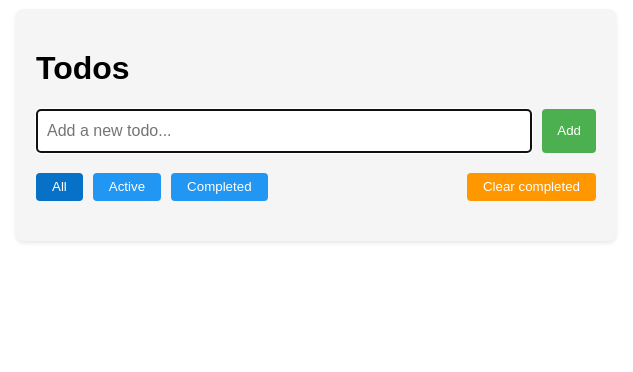
Test case: Todos App › should clear completed todos
Type "Active task" into the field with placeholder "Add a new todo..." at x=284, y=131, box [36,109,532,153]
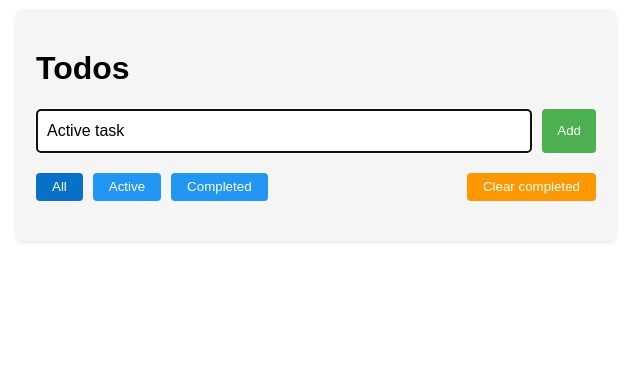
Click the button "Add" at x=569, y=131, box [542,109,596,153]
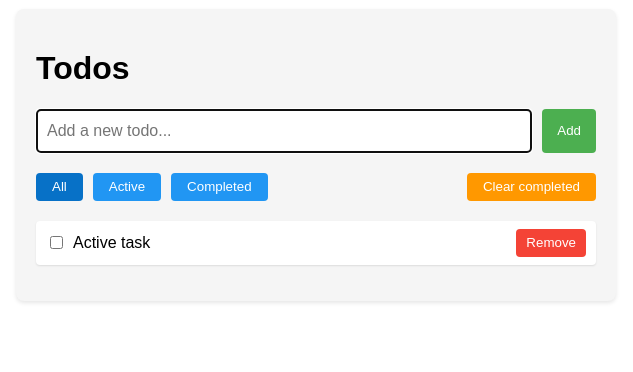
Type "Completed task" into the field with placeholder "Add a new todo..." at x=284, y=131, box [36,109,532,153]
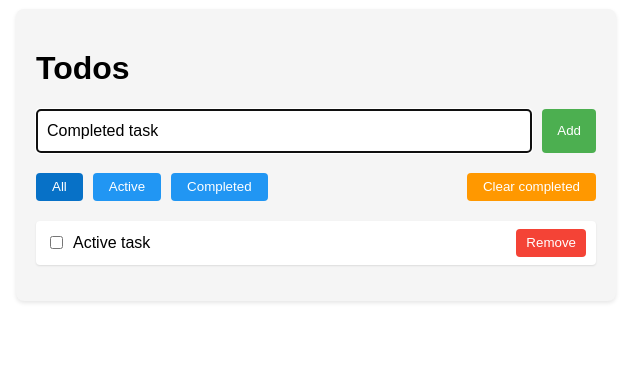
Click the button "Add" at x=569, y=131, box [542,109,596,153]
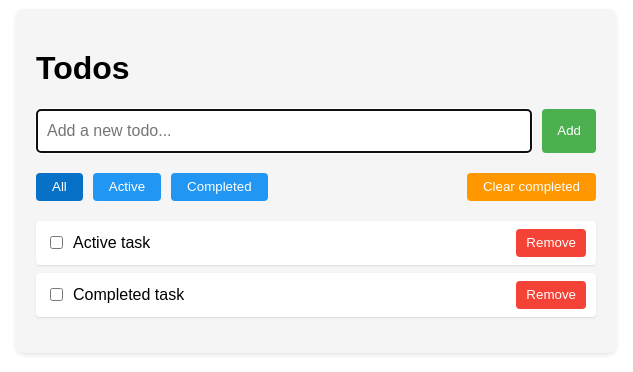
Click the checkbox labelled "Completed task" at x=56, y=295, box [50,288,63,301]
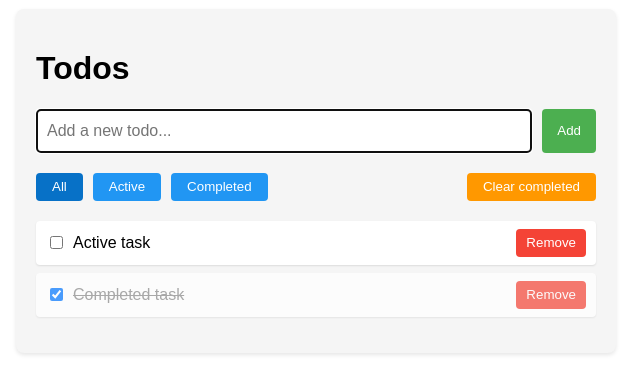
Click the button "Clear completed" at x=532, y=187, box [467,173,596,201]
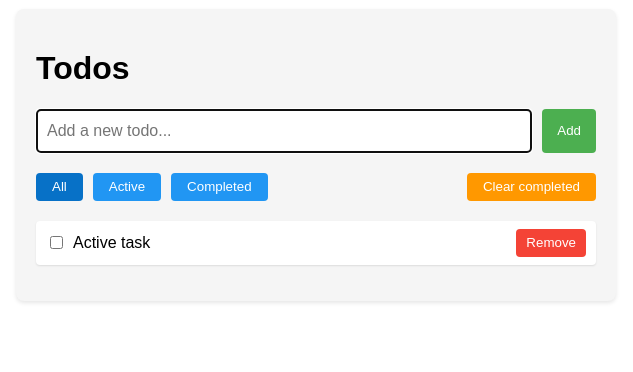
Now the text "Active task" is shown, box [73,234,150,251]
Now the text "Completed task" is gone
